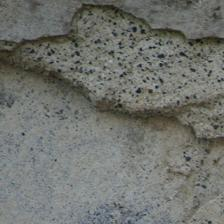Crack: (98, 74, 126, 147), (191, 166, 224, 224)
